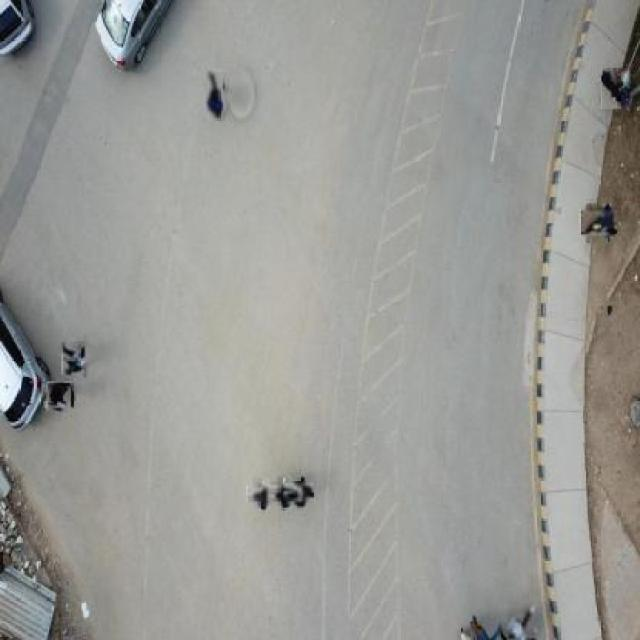Person: (600, 68, 631, 110), (583, 207, 615, 241), (508, 604, 537, 639), (44, 382, 74, 411), (207, 69, 224, 120), (62, 342, 86, 376), (250, 482, 275, 507), (273, 482, 298, 507), (288, 480, 310, 505)
